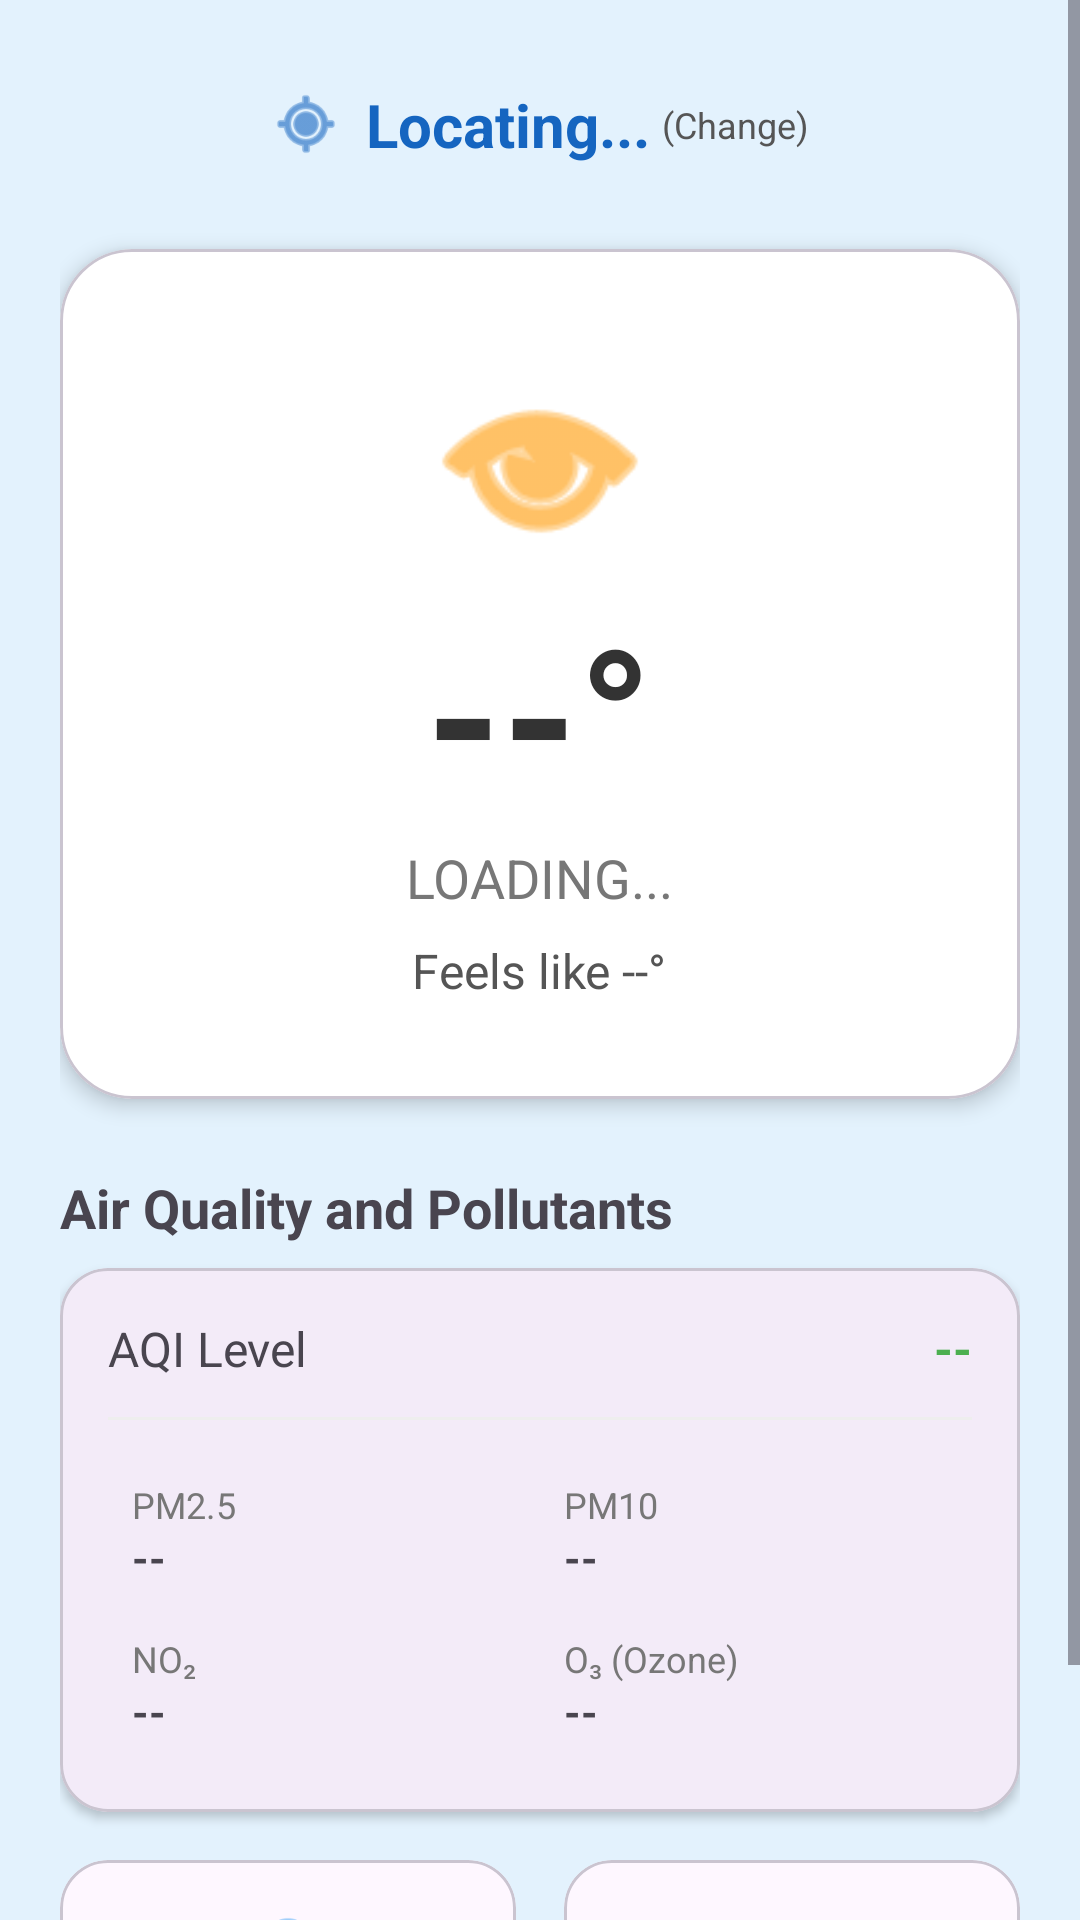

Screen size 1080px x 1920px. Icon name, then its center in pixels as (x=x, y=y):
mylocation: (x=306, y=124)
view: (x=540, y=471)
